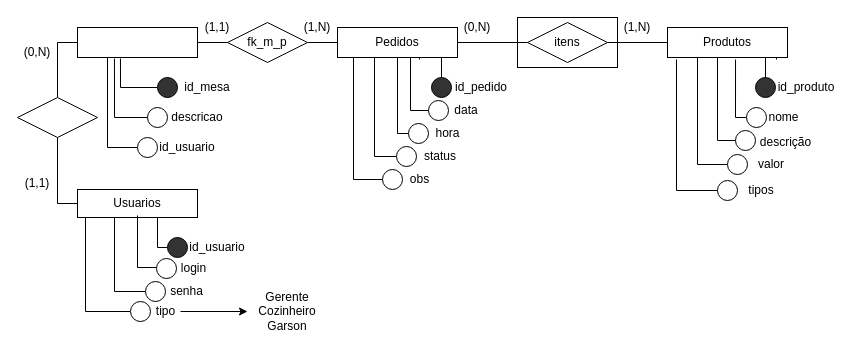
This 852x350 diagram has some shape labels left out. Each missing label, with the centre of its shape:
"fk_m_u" belongs at point 57,117.
"Mesa" belongs at point 137,42.
